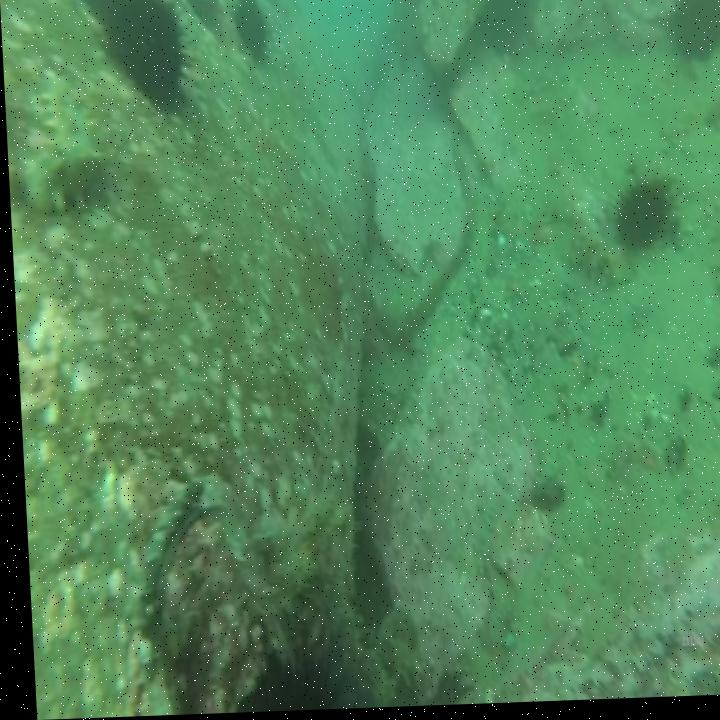echinus: (93, 0, 208, 130), (612, 173, 675, 272), (671, 0, 720, 78), (233, 0, 268, 66)
